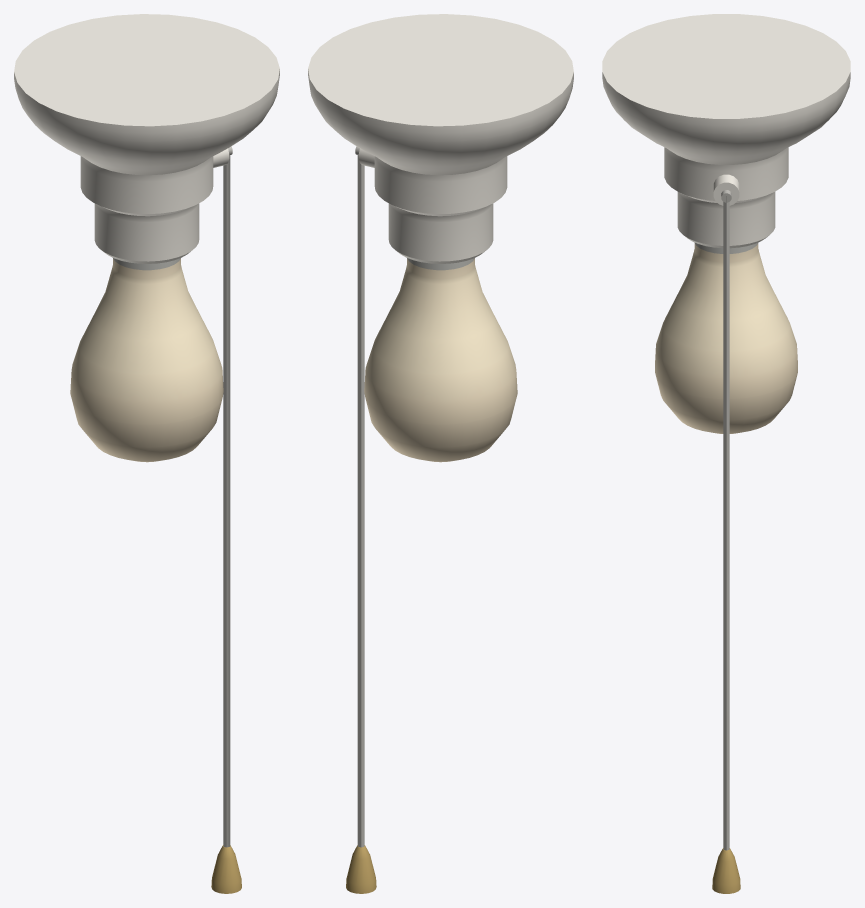
File: ceiling_lit.obj
3 renders of one model, left to right at view 1: azimuth 30°, elevation 25°; view 2: azimuth 150°, elevation 25°; view 3: azimuth 270°, elevation 25°, orthographic. The views are drawn at different scales.
Parts seen in each view (by area): view 1: ceiling_porcelain, ceiling_bulb_lit, ceiling_chain, ceiling_pull; view 2: ceiling_porcelain, ceiling_bulb_lit, ceiling_chain, ceiling_pull; view 3: ceiling_porcelain, ceiling_bulb_lit, ceiling_chain, ceiling_pull, ceiling_boss.
Boxes of the visible parts, x1=… form: ceiling_porcelain: x1=14, y1=14, x2=279, y2=263; ceiling_bulb_lit: x1=70, y1=259, x2=223, y2=462; ceiling_chain: x1=223, y1=155, x2=230, y2=847; ceiling_pull: x1=211, y1=845, x2=241, y2=893; ceiling_porcelain: x1=308, y1=14, x2=573, y2=263; ceiling_bulb_lit: x1=364, y1=259, x2=517, y2=462; ceiling_chain: x1=357, y1=155, x2=364, y2=847; ceiling_pull: x1=346, y1=845, x2=376, y2=893; ceiling_porcelain: x1=602, y1=14, x2=850, y2=248; ceiling_bulb_lit: x1=655, y1=243, x2=797, y2=433; ceiling_chain: x1=723, y1=196, x2=729, y2=850; ceiling_pull: x1=712, y1=848, x2=740, y2=893; ceiling_boss: x1=713, y1=174, x2=739, y2=205.
Size of the model in its own units: 0.1035 by 0.361 by 0.1035.
